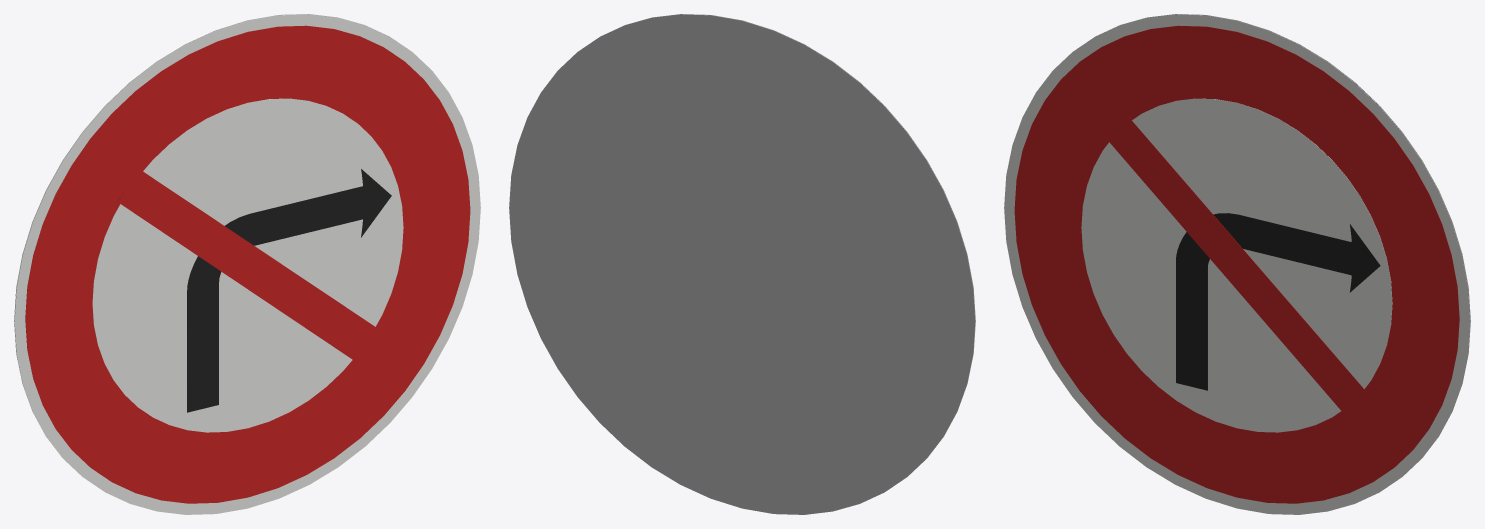
3 renders of one model, left to right at view 1: azimuth 30°, elevation 25°; view 2: azimuth 150°, elevation 25°; view 3: azimuth 330°, elevation 25°, orthographic.
Visible parts, largest first — view 1: B2b_p01, B2b_p02, B2b_p00, B2b_p04, B2b_p03, B2b_dos; view 2: B2b_dos, B2b_p00; view 3: B2b_p01, B2b_p02, B2b_p00, B2b_p04, B2b_p03, B2b_dos.
Part boxes in pixels (x1,y1,x2,y2): B2b_p01: (25,25,470,503); B2b_p02: (92,98,403,432); B2b_p00: (14,14,480,514); B2b_p04: (117,169,378,361); B2b_p03: (187,169,391,412); B2b_dos: (14,14,385,473); B2b_dos: (509,14,975,514); B2b_p00: (604,14,975,473); B2b_p01: (1014,25,1459,503); B2b_p02: (1081,98,1392,432); B2b_p00: (1004,14,1470,514); B2b_p04: (1106,117,1367,414); B2b_p03: (1176,213,1380,390); B2b_dos: (1099,14,1470,473).
Size of the model in its own units: 0.85 by 0.8498 by 0.0035.
